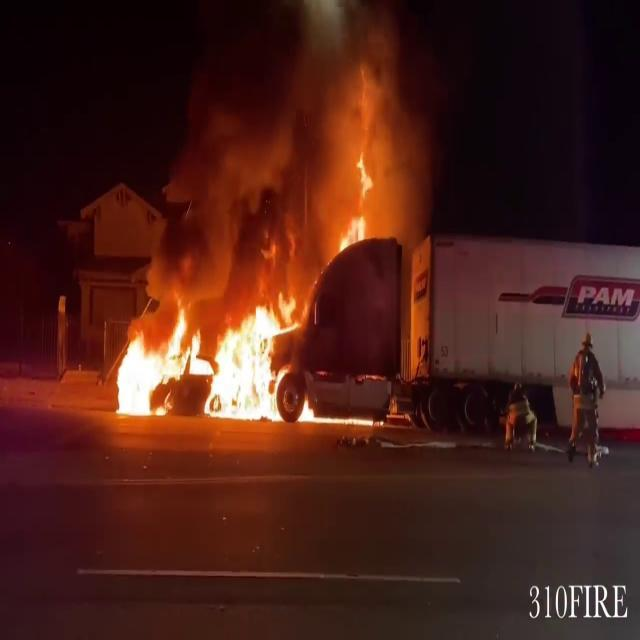Fire: (107, 289, 316, 423), (341, 129, 374, 240)
Smoke: (155, 0, 446, 253)
